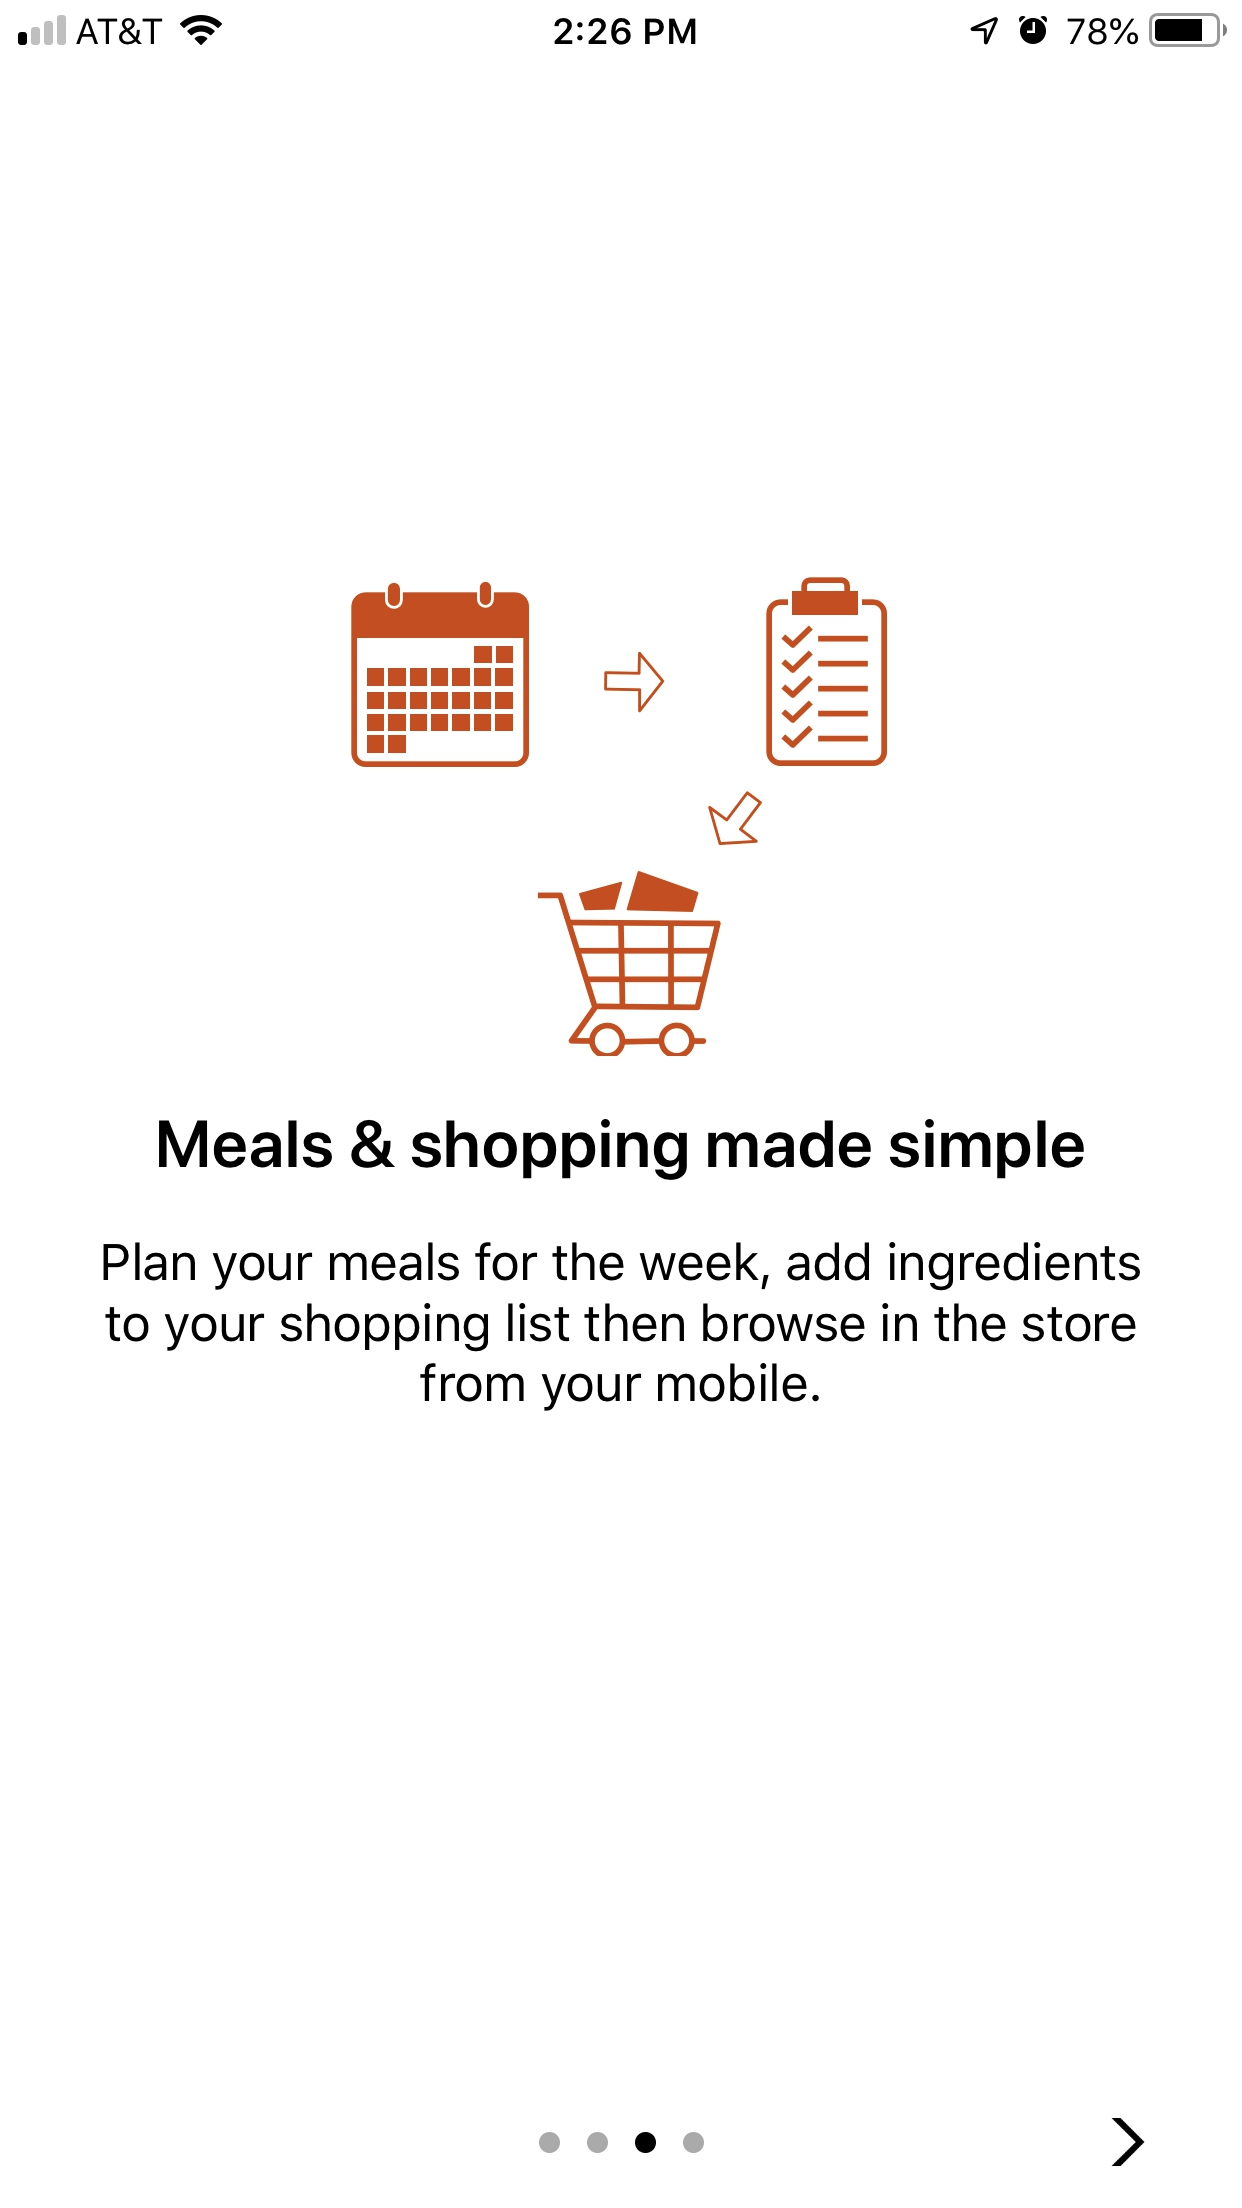Icon: (1112, 2117, 1145, 2167)
Image: (350, 576, 889, 1059)
PageIndicator: (538, 2131, 705, 2153)
Text: (103, 1240, 1140, 1412), (159, 1118, 1084, 1181)
UpperTaskBar: (2, 2, 1242, 49)
